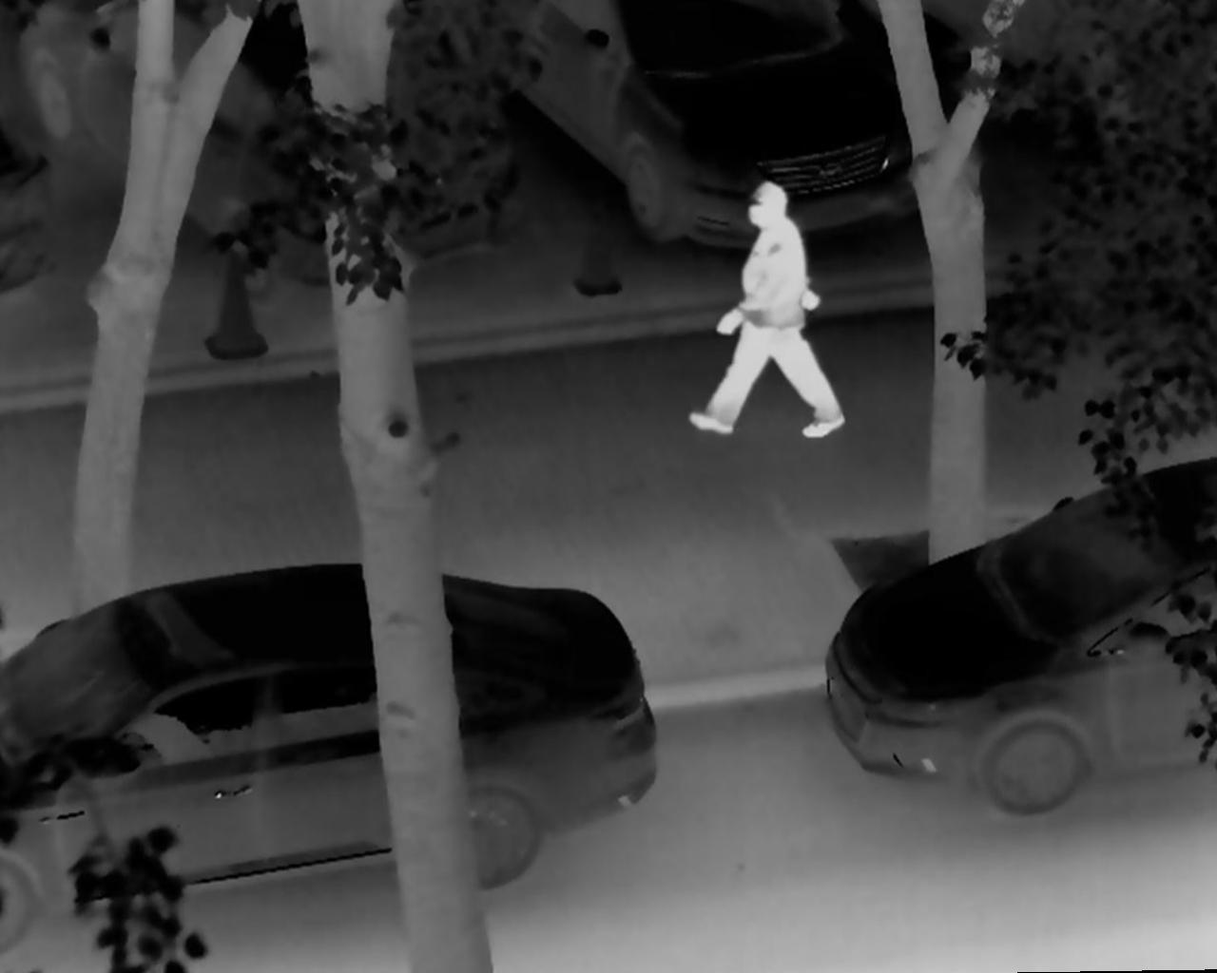person: (687, 179, 851, 447)
